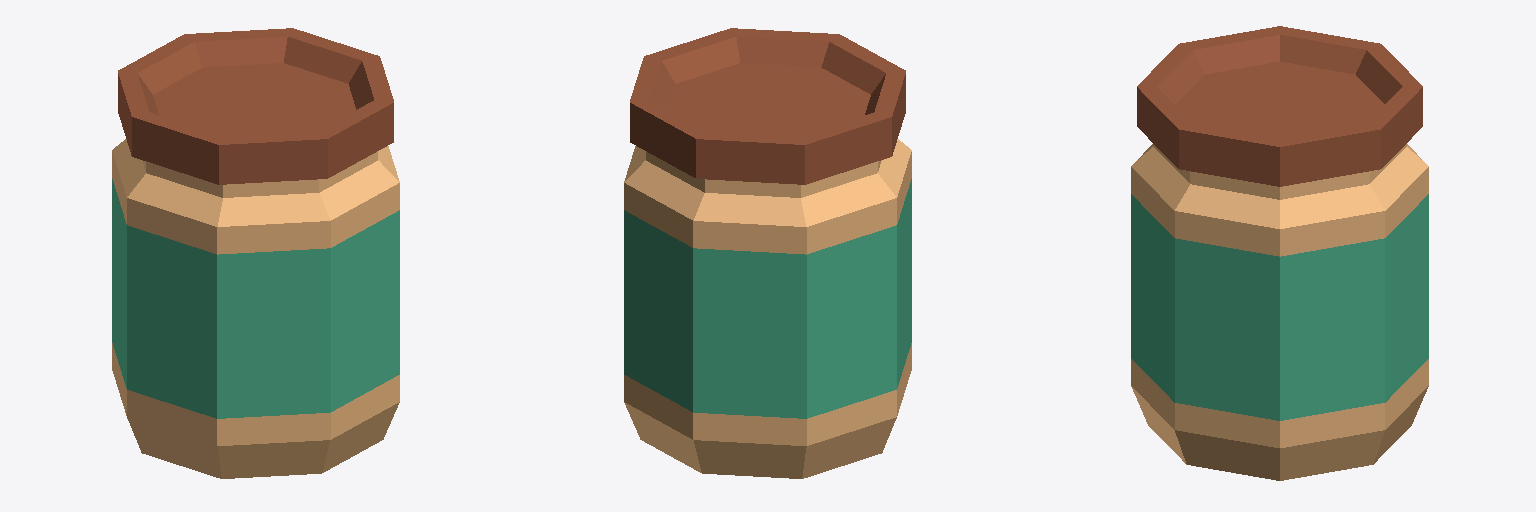
The model's file is peanutButter.obj.
3 views of the same model, side by side, from view 1: azimuth 30°, elevation 25°; view 2: azimuth 150°, elevation 25°; view 3: azimuth 270°, elevation 25° (orthographic).
Visible parts, largest first — view 1: peanutButter; view 2: peanutButter; view 3: peanutButter.
Boxes of the visible parts, x1,y1,x2,y2 form: peanutButter: [112, 28, 399, 478]; peanutButter: [624, 28, 911, 478]; peanutButter: [1131, 26, 1428, 480].
Size of the model in its own units: 0.2359 by 0.2958 by 0.2359.